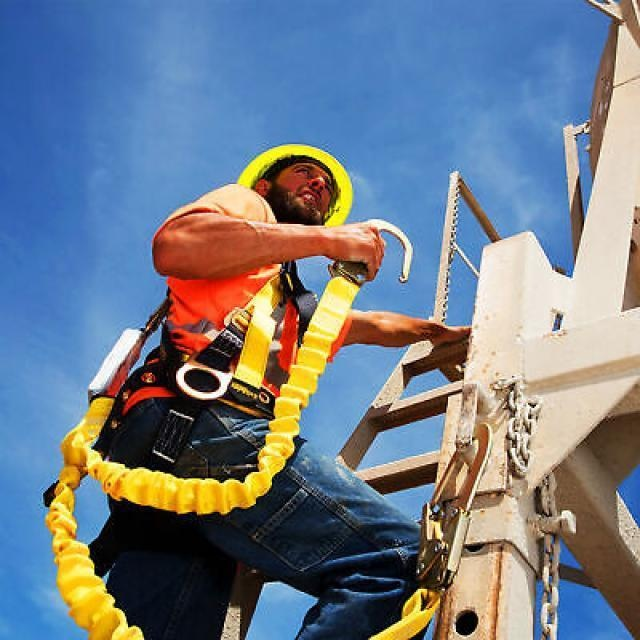Arnes_seguridad: (202, 261, 320, 404)
